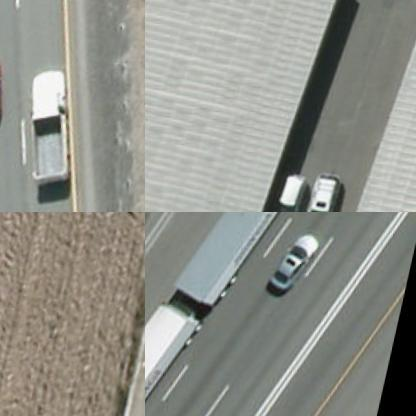car: (272, 228, 328, 297), (267, 172, 316, 211), (305, 171, 352, 211), (0, 51, 14, 124)
truck: (145, 212, 361, 415), (8, 65, 96, 190)
